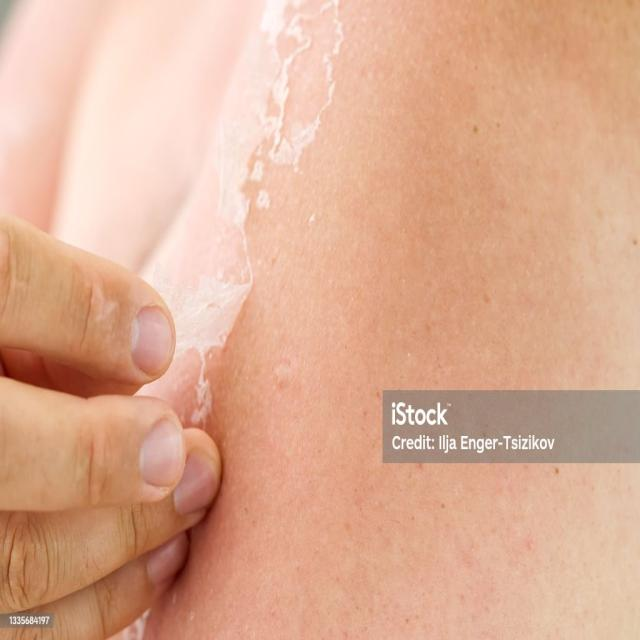Dry-Skin: (284, 145, 524, 351), (230, 407, 450, 557), (99, 53, 210, 290), (478, 34, 588, 178), (507, 153, 575, 354), (260, 25, 460, 73)
